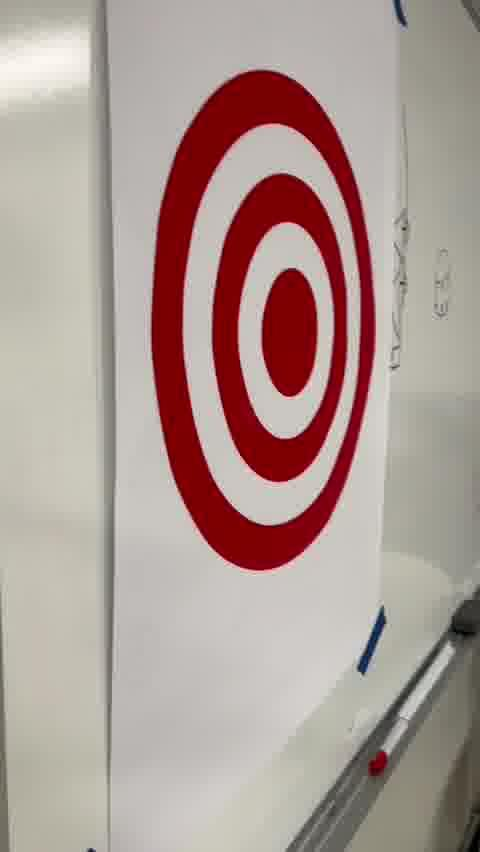target_red: (149, 69, 376, 573)
